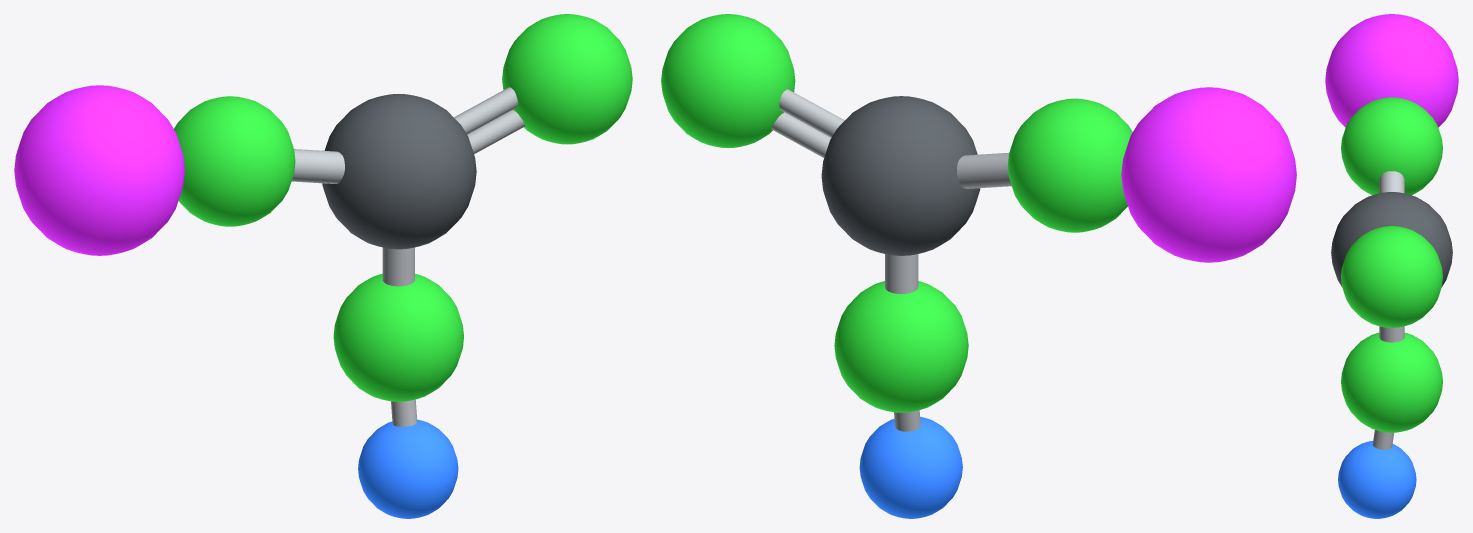
The model's file is sodium_bicarbonate.glb.
3 views of the same model, side by side, from view 1: azimuth 30°, elevation 25°; view 2: azimuth 150°, elevation 25°; view 3: azimuth 270°, elevation 25° (orthographic). The views are drawn at different scales.
Parts seen in each view (by area): view 1: Na_atom, C_atom, O_atom.001, O_atom.002, O_atom, H_atom, C-O bond 1, C=O double bond A, C-OH bond, C=O double bond B; view 2: Na_atom, C_atom, O_atom.001, O_atom.002, O_atom, H_atom, C-O bond 1, C=O double bond A, C-OH bond, C=O double bond B; view 3: Na_atom, O_atom.001, O_atom.002, O_atom, C_atom, H_atom, C-O bond 1, C-OH bond, O-H bond.
Boxes of the visible parts, left/top/right/bottom form: Na_atom: left=14, top=85, right=184, bottom=255; C_atom: left=322, top=94, right=476, bottom=249; O_atom.001: left=502, top=14, right=632, bottom=144; O_atom.002: left=333, top=273, right=463, bottom=401; O_atom: left=174, top=96, right=295, bottom=226; H_atom: left=358, top=419, right=458, bottom=518; C-O bond 1: left=291, top=149, right=344, bottom=183; C=O double bond A: left=454, top=87, right=517, bottom=134; C-OH bond: left=382, top=247, right=414, bottom=286; C=O double bond B: left=467, top=109, right=524, bottom=154; Na_atom: left=1121, top=87, right=1296, bottom=262; C_atom: left=821, top=96, right=980, bottom=255; O_atom.001: left=661, top=14, right=795, bottom=147; O_atom.002: left=834, top=281, right=968, bottom=412; O_atom: left=1007, top=98, right=1132, bottom=232; H_atom: left=859, top=416, right=962, bottom=518; C-O bond 1: left=957, top=152, right=1011, bottom=188; C=O double bond A: left=779, top=89, right=844, bottom=137; C-OH bond: left=885, top=254, right=918, bottom=293; C=O double bond B: left=771, top=112, right=830, bottom=157; Na_atom: left=1325, top=14, right=1458, bottom=127; O_atom.001: left=1341, top=226, right=1442, bottom=327; O_atom.002: left=1341, top=332, right=1442, bottom=432; O_atom: left=1341, top=97, right=1442, bottom=195; C_atom: left=1331, top=192, right=1452, bottom=286; H_atom: left=1338, top=441, right=1416, bottom=518; C-O bond 1: left=1379, top=171, right=1404, bottom=193; C-OH bond: left=1379, top=326, right=1404, bottom=342; O-H bond: left=1372, top=430, right=1393, bottom=449.
Size of the model in its own units: 1.37 by 1.07 by 0.34.
